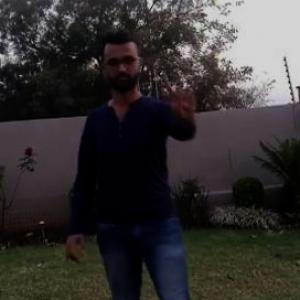takeoff-hand: (163, 73, 206, 123)
